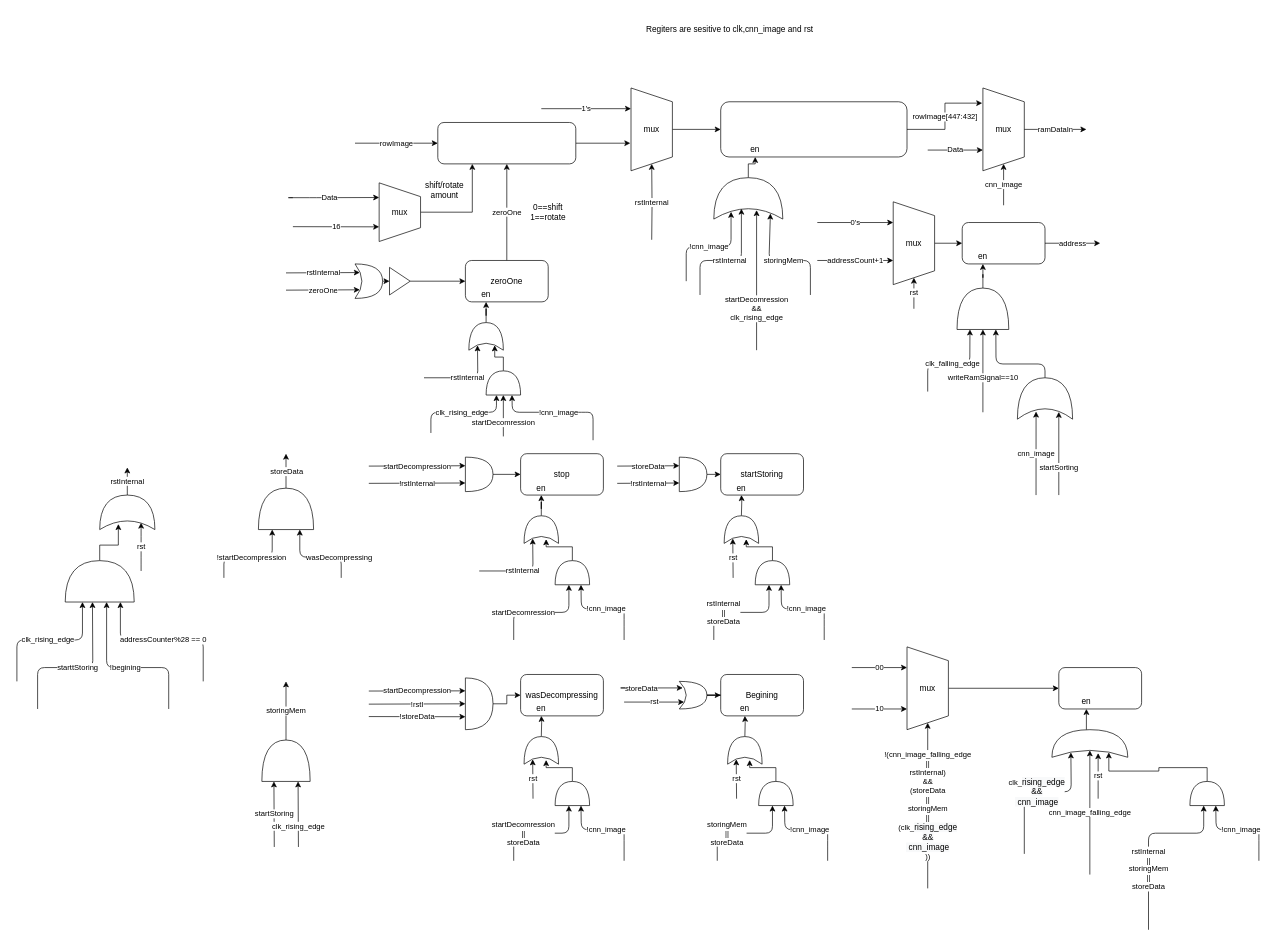
The diagram is 1277 pixels wide and 947 high, and some of its shapes have lost their labels. The shapes that lost their labels are listed below. From the top down, each one's box as (x1, y1, x2, y2) in pixels, then its label:
(437, 122, 576, 164): shift/rotate Left
(720, 101, 907, 157): rowImage[447:0]
(962, 222, 1045, 264): addressCount
(1058, 667, 1142, 709): WriteRamSignal
